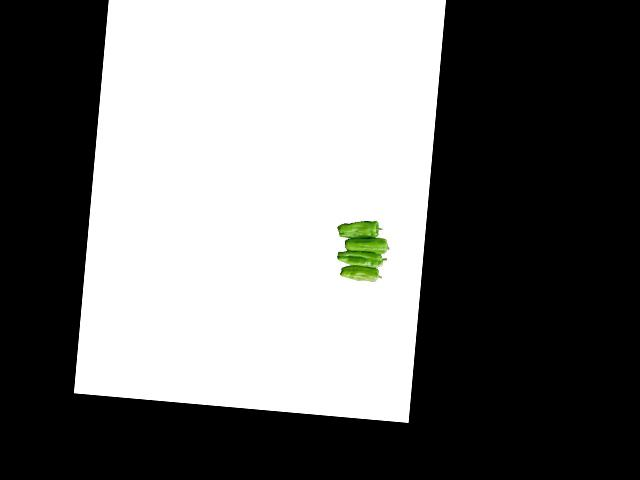bell_pepper: (333, 217, 385, 241)
